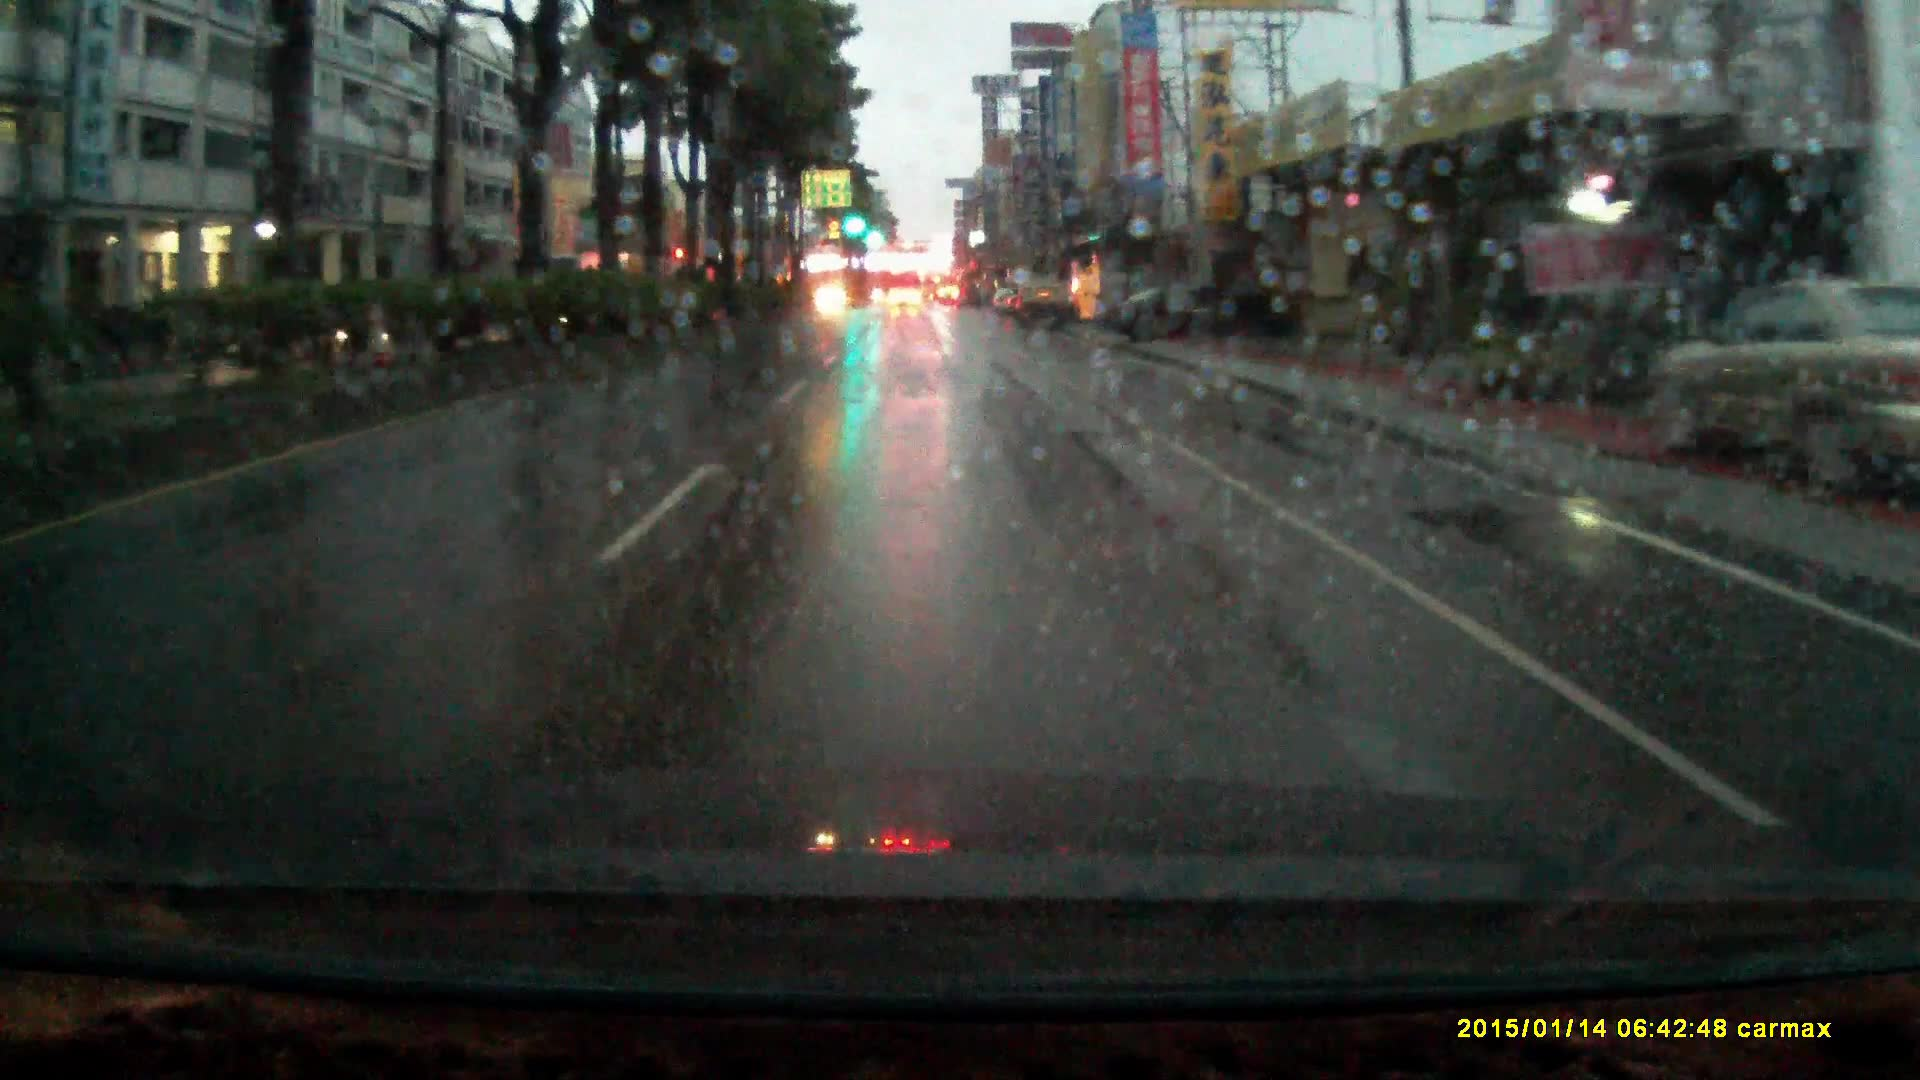vehicle: (1654, 274, 1920, 501), (1100, 280, 1298, 342), (1013, 272, 1071, 326), (886, 284, 923, 307)
